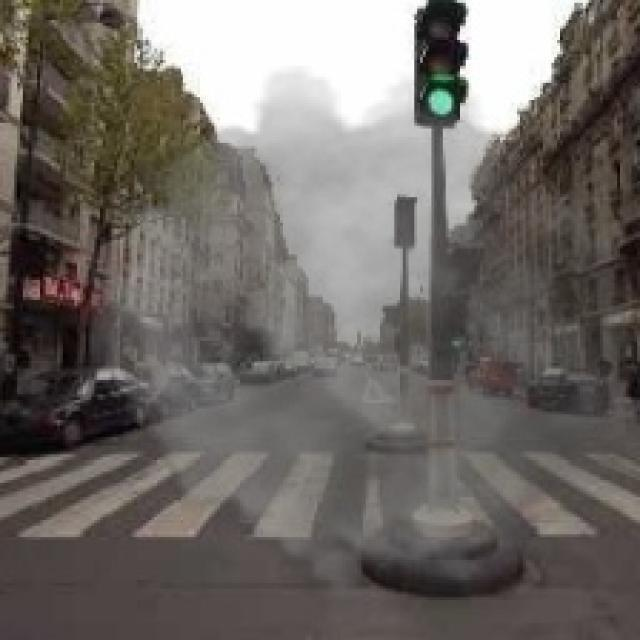Smoke: (89, 65, 626, 618)
